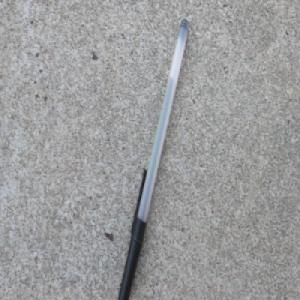Pen: (116, 16, 190, 300)
